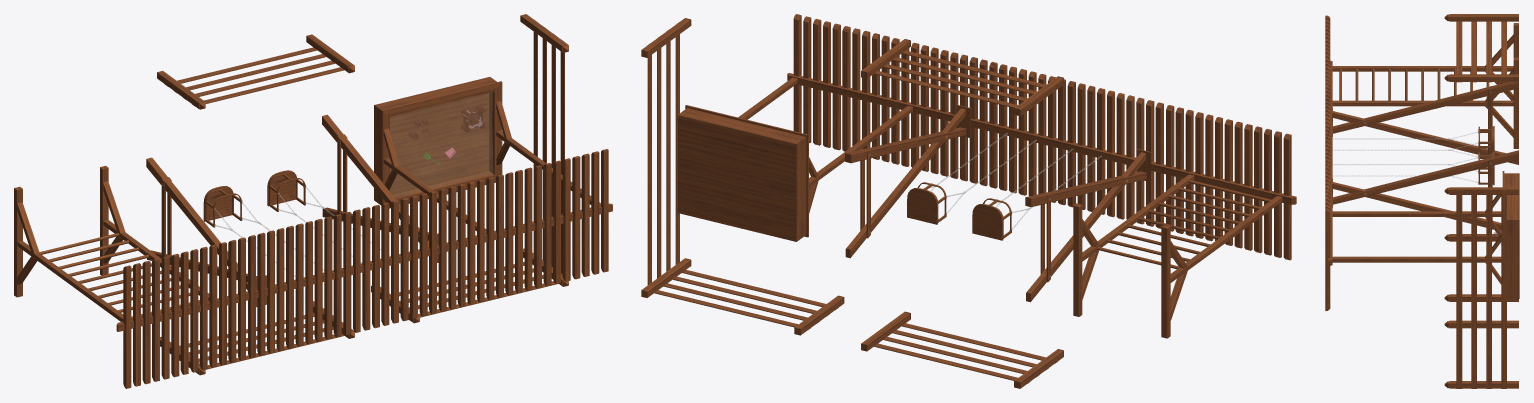
Rendered from playground.glb.
The picture shows the model from 3 angles, left to right: view 1: azimuth 30°, elevation 25°; view 2: azimuth 150°, elevation 25°; view 3: azimuth 270°, elevation 25°; orthographic projection. The views are drawn at different scales.
Parts seen in each view (by area): view 1: Playground 1; view 2: Playground 1; view 3: Playground 1.
Boxes of the visible parts, bbox=[...] form: Playground 1: bbox=[14, 14, 612, 388]; Playground 1: bbox=[641, 14, 1296, 388]; Playground 1: bbox=[1325, 14, 1519, 388].
Bounding box in the file's own units: 266 × 132 × 103.
6 materials, 6 textured.
